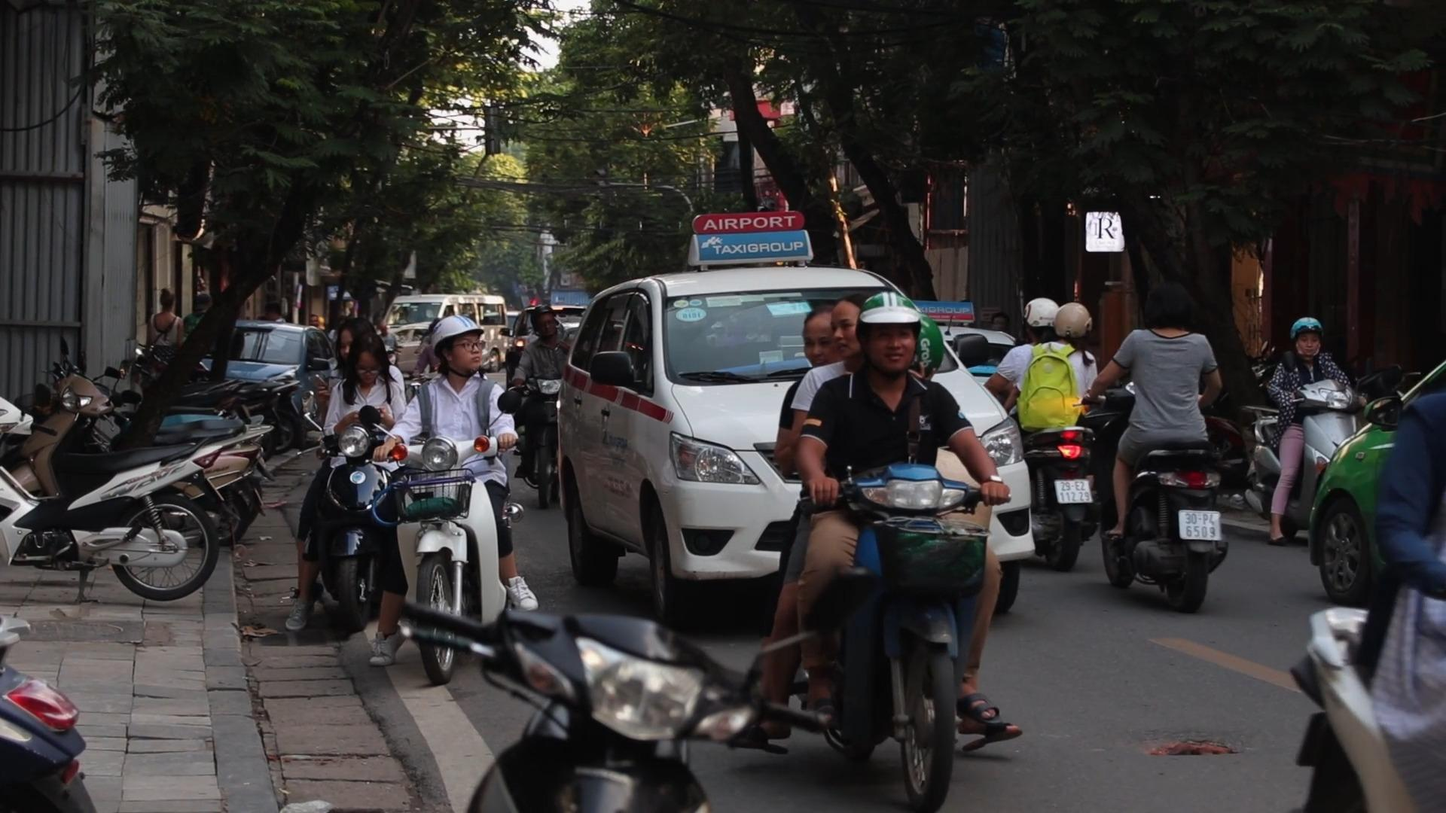driver: (749, 291, 1023, 813), (368, 316, 540, 685), (1072, 282, 1229, 614), (284, 316, 407, 632), (982, 297, 1099, 573), (1242, 317, 1368, 548), (507, 305, 570, 511)
helmet: (856, 291, 922, 378), (431, 315, 485, 377), (1054, 302, 1092, 349), (1023, 297, 1059, 343), (1290, 317, 1323, 361), (531, 305, 556, 339)
no-helmet: (1144, 282, 1195, 329), (802, 304, 835, 368), (347, 332, 387, 384), (830, 295, 861, 359), (336, 316, 376, 365)
